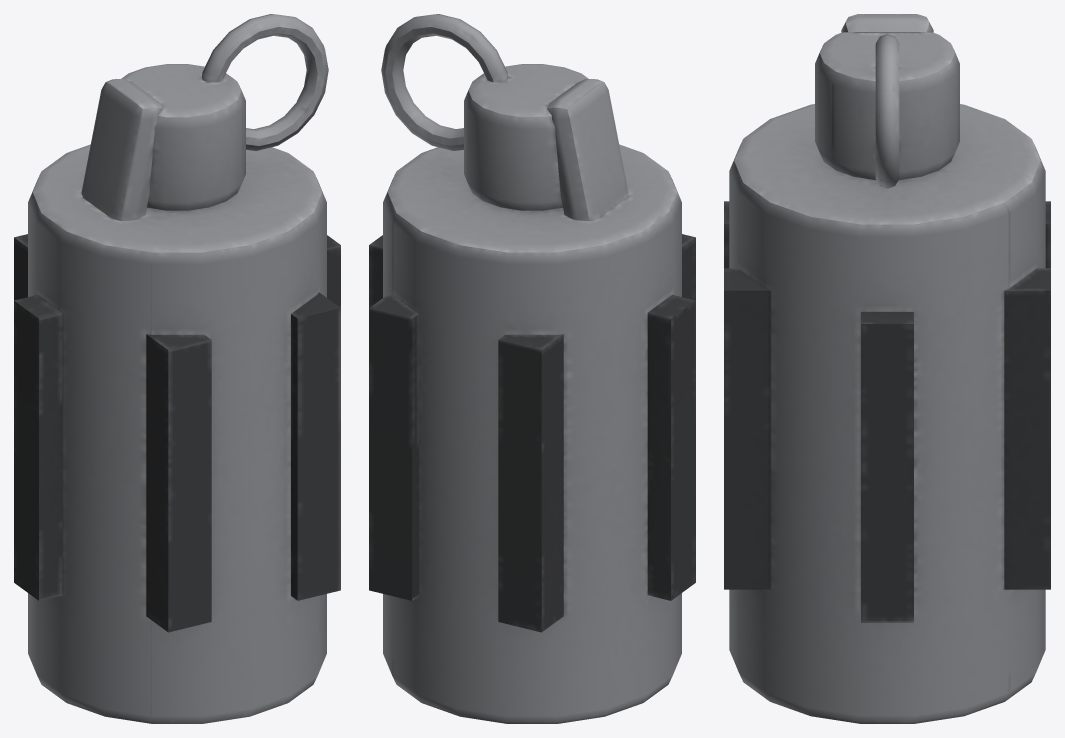
Rendered from flash.fbx.
3 renders of one model, left to right at view 1: azimuth 30°, elevation 25°; view 2: azimuth 150°, elevation 25°; view 3: azimuth 270°, elevation 25°, orthographic. The views are drawn at different scales.
Visible parts, largest first — view 1: flash; view 2: flash; view 3: flash.
Boxes of the visible parts, <box> form: flash: <box>14,14,340,723</box>; flash: <box>369,14,695,723</box>; flash: <box>724,14,1050,723</box>.
Size of the model in its own units: 0.056 by 0.1116 by 0.0496.
